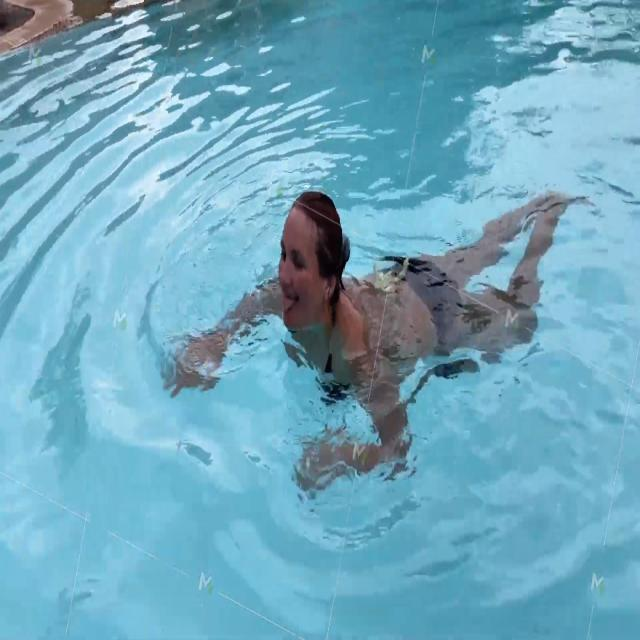swimming: (161, 178, 591, 535)
